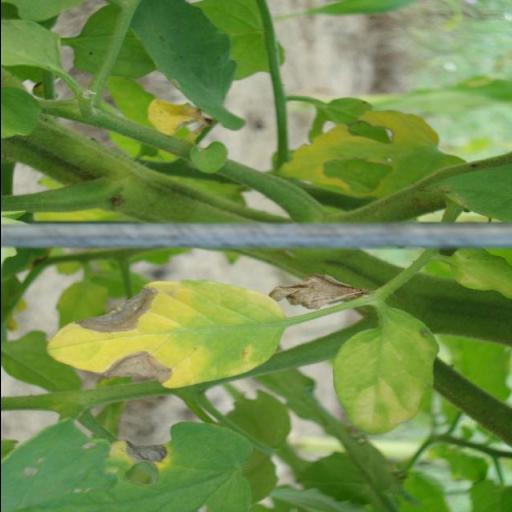Early Blight: (46, 276, 286, 396)
